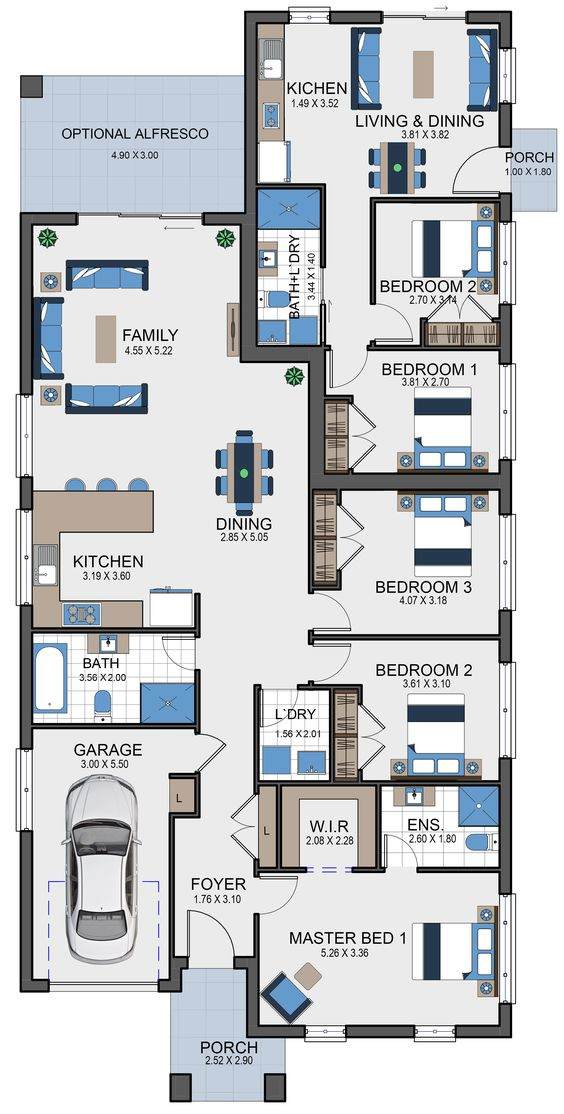door: (184, 903, 233, 951), (261, 872, 310, 920), (447, 148, 494, 195), (314, 640, 362, 675), (316, 597, 360, 632), (157, 631, 192, 669), (329, 354, 364, 392), (381, 304, 416, 342), (381, 824, 410, 865)
room: (241, 8, 515, 208), (247, 865, 515, 1048), (16, 209, 259, 396), (302, 471, 522, 643), (304, 632, 528, 785), (304, 342, 514, 492), (367, 193, 518, 354), (14, 624, 202, 733), (241, 181, 333, 365), (373, 776, 515, 876), (273, 780, 386, 876)
window: (491, 890, 521, 1007), (11, 505, 40, 610), (493, 658, 521, 762), (495, 362, 522, 462), (493, 512, 520, 612), (11, 391, 38, 481), (13, 744, 38, 833), (496, 218, 519, 308), (410, 1017, 459, 1048), (497, 44, 519, 108), (285, 2, 332, 28), (301, 1022, 349, 1044)
